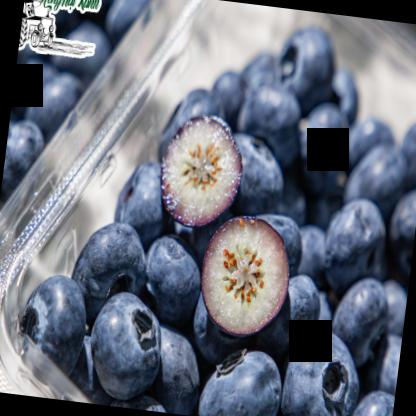blueberry: (66, 220, 150, 334), (12, 265, 92, 375), (84, 292, 164, 402), (275, 326, 366, 415), (199, 342, 287, 415), (346, 385, 395, 415)
